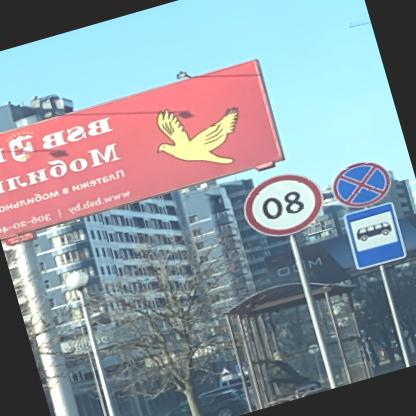speedlimit: (237, 162, 334, 245)
